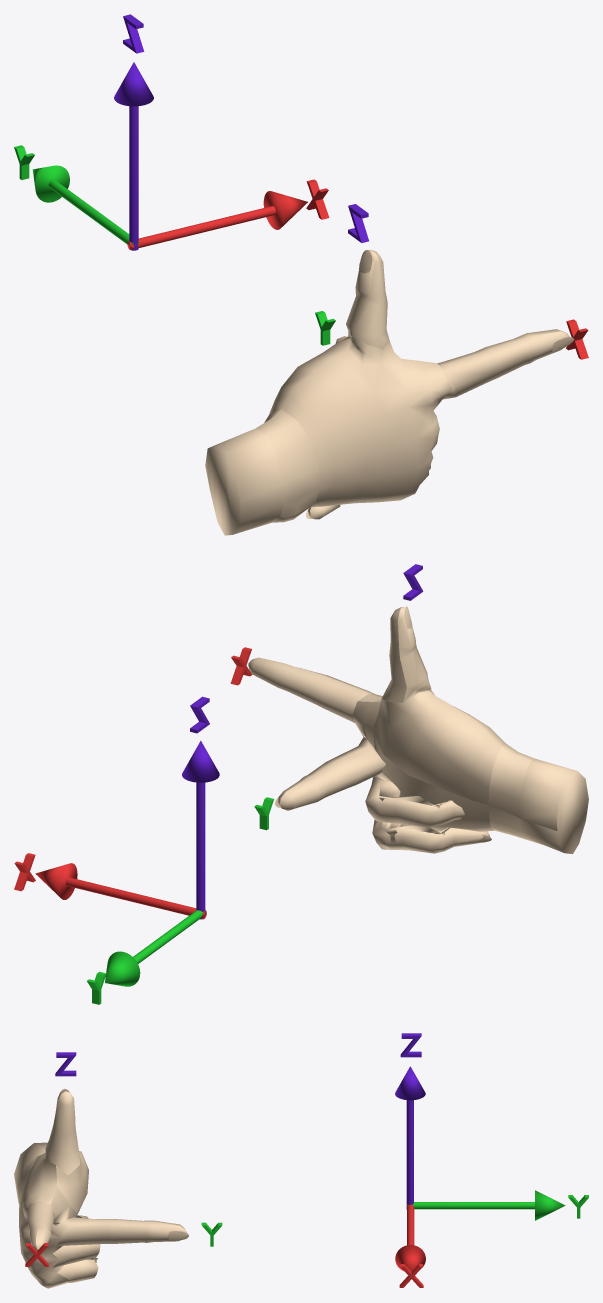
The picture shows the model from 3 angles, top to bottom: view 1: azimuth 30°, elevation 25°; view 2: azimuth 150°, elevation 25°; view 3: azimuth 270°, elevation 25°; orthographic projection. The views are drawn at different scales.
Parts seen in each view (by area): view 1: Body.baked_43, Cylinder.002_6, Cylinder_2, Cone_3, Cylinder.001_4, Cone.001_5, Cone.002_7; view 2: Body.baked_43, Cylinder_2, Cylinder.002_6, Cone.001_5, Cone_3, Cone.002_7, Cylinder.001_4; view 3: Body.baked_43, Cylinder.001_4, Cylinder_2, Cone_3, Cone.002_7, Cone.001_5, Text.003_14, Text.011_19.
Boxes of the visible parts, x1,y1,x2,y2 form: Body.baked_43: [205, 249, 574, 535]; Cylinder.002_6: [127, 206, 275, 250]; Cylinder_2: [129, 106, 138, 250]; Cone_3: [114, 62, 153, 106]; Cylinder.001_4: [48, 179, 139, 245]; Cone.001_5: [32, 165, 69, 202]; Cone.002_7: [263, 191, 307, 229]; Body.baked_43: [248, 606, 588, 854]; Cylinder_2: [196, 782, 205, 919]; Cylinder.002_6: [66, 877, 206, 919]; Cone.001_5: [105, 951, 140, 986]; Cone_3: [182, 740, 219, 782]; Cone.002_7: [35, 863, 77, 899]; Cylinder.001_4: [133, 909, 206, 963]; Body.baked_43: [14, 1089, 188, 1288]; Cylinder.001_4: [407, 1202, 534, 1209]; Cylinder_2: [406, 1100, 413, 1209]; Cone_3: [395, 1066, 425, 1100]; Cone.002_7: [395, 1245, 425, 1271]; Cone.001_5: [535, 1190, 565, 1220]; Text.003_14: [400, 1033, 421, 1057]; Text.011_19: [55, 1052, 76, 1076].
Bounding box in the file's own units: 181 × 152 × 329.
